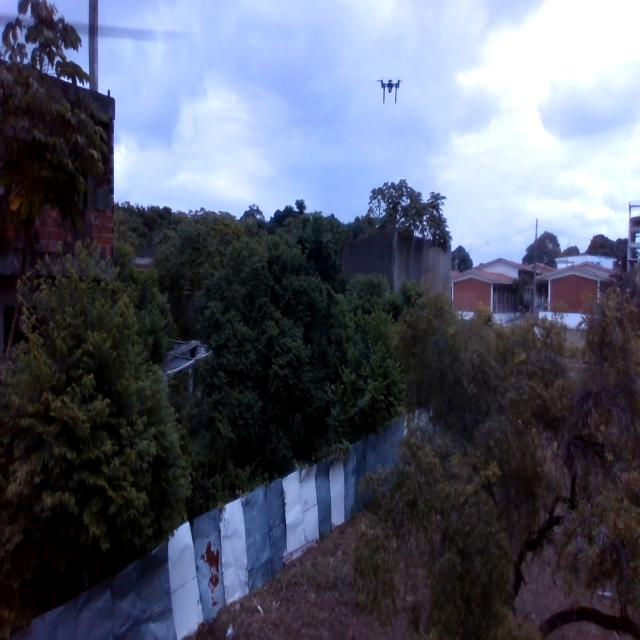-uav-: (369, 68, 410, 122)
